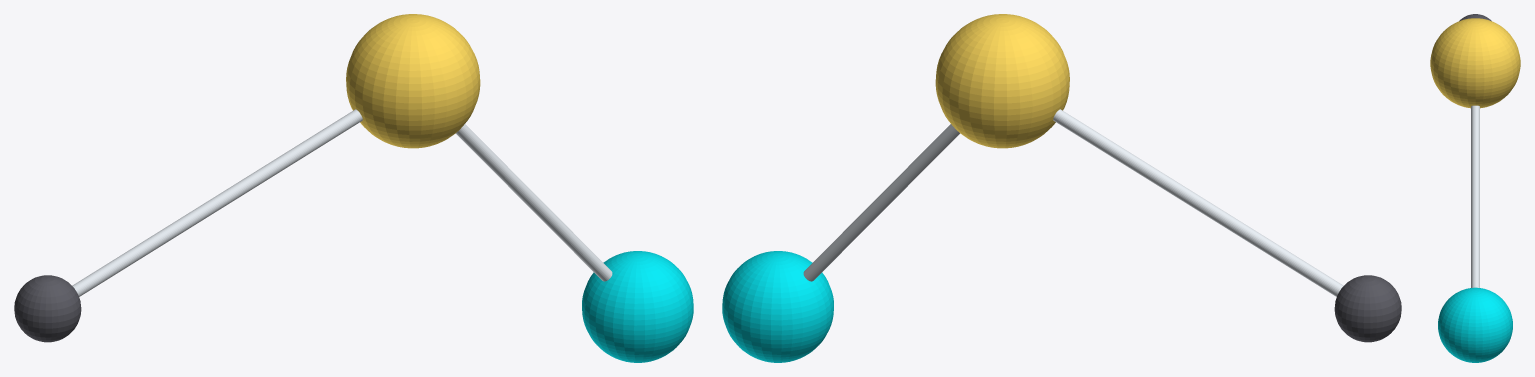
Rendered from double_pendulum.glb.
The picture shows the model from 3 angles, left to right: view 1: azimuth 30°, elevation 25°; view 2: azimuth 150°, elevation 25°; view 3: azimuth 270°, elevation 25°; orthographic projection. The views are drawn at different scales.
Visible parts, largest first — view 1: Bob_1, Bob_2, Rod_1, Sphere, Rod_2; view 2: Bob_1, Bob_2, Rod_1, Sphere, Rod_2; view 3: Bob_1, Bob_2, Rod_2, Sphere.
Part boxes in pixels (bbox=[...]): Bob_1: bbox=[346, 14, 480, 148]; Bob_2: bbox=[582, 251, 693, 362]; Rod_1: bbox=[72, 109, 362, 296]; Sphere: bbox=[14, 275, 81, 342]; Rod_2: bbox=[456, 124, 612, 281]; Bob_1: bbox=[935, 14, 1069, 148]; Bob_2: bbox=[722, 251, 833, 362]; Rod_1: bbox=[1053, 109, 1343, 296]; Sphere: bbox=[1334, 275, 1401, 342]; Rod_2: bbox=[803, 124, 959, 281]; Bob_1: bbox=[1430, 18, 1520, 108]; Bob_2: bbox=[1438, 287, 1512, 362]; Rod_2: bbox=[1471, 105, 1479, 287]; Sphere: bbox=[1459, 14, 1491, 21].
Bounding box in the file's own units: 3.44 × 1.93 × 0.6.
